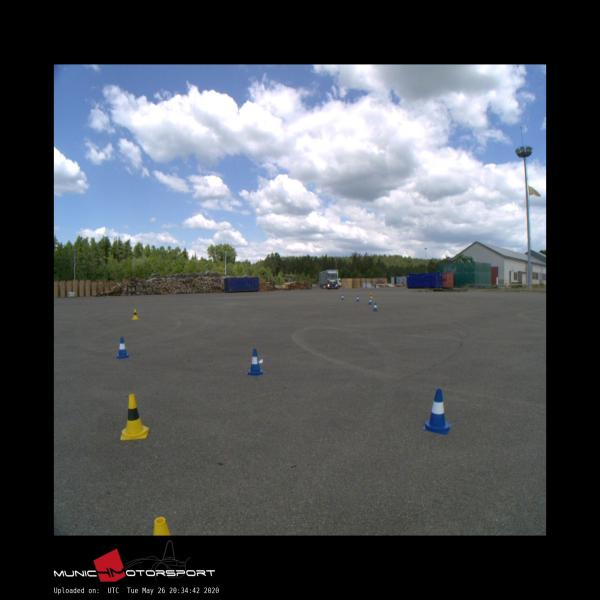blue_cone: (423, 389, 452, 434), (246, 348, 264, 374), (115, 338, 130, 358), (373, 303, 378, 312), (368, 298, 372, 304), (356, 295, 360, 301), (341, 294, 344, 300)
yellow_cone: (120, 395, 148, 439), (131, 309, 138, 319), (370, 293, 372, 299)
